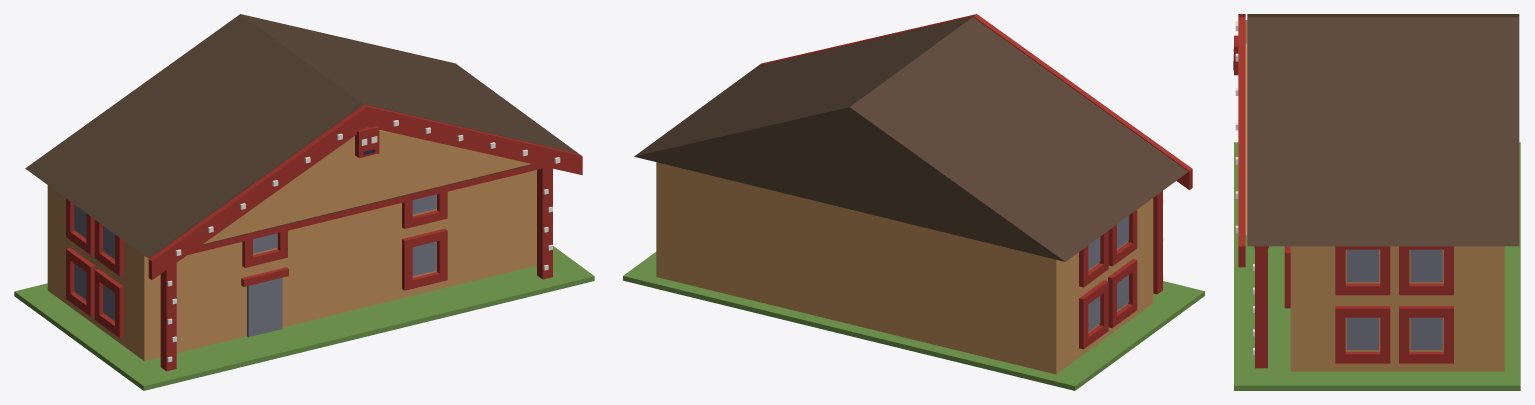
File: house-2x1-2f-whare-a.glb
3 renders of one model, left to right at view 1: azimuth 30°, elevation 25°; view 2: azimuth 150°, elevation 25°; view 3: azimuth 270°, elevation 25°, orthographic. The views are drawn at different scales.
Visible parts, largest first — view 1: house-2x1-2f-whare-a; view 2: house-2x1-2f-whare-a; view 3: house-2x1-2f-whare-a.
Boxes of the visible parts, x1,y1,x2,y2 form: house-2x1-2f-whare-a: [14, 14, 594, 390]; house-2x1-2f-whare-a: [623, 14, 1204, 390]; house-2x1-2f-whare-a: [1233, 14, 1520, 390].
Size of the model in its own units: 1.99 by 0.96 by 0.993.
Materials: 1 (1 with a texture image).
